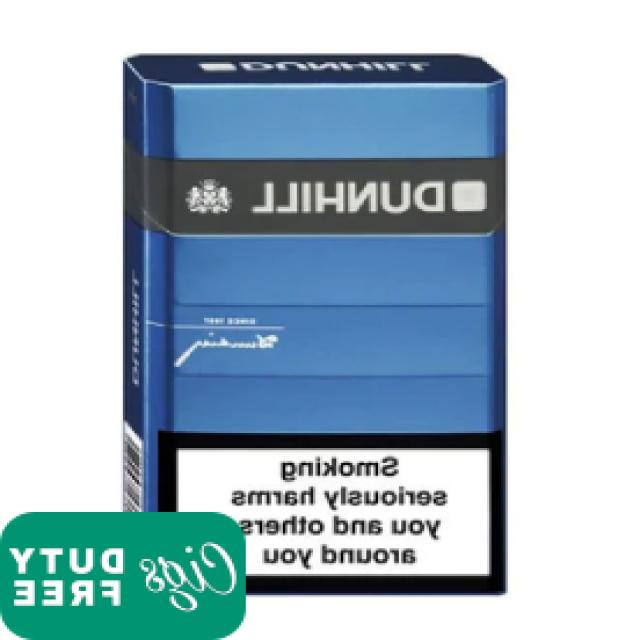dunhill: (112, 45, 507, 597)
